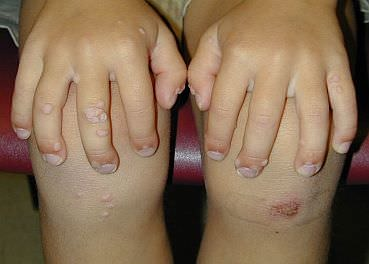Warts: (18, 59, 143, 228), (108, 18, 230, 104), (230, 148, 324, 224), (321, 61, 352, 103)
